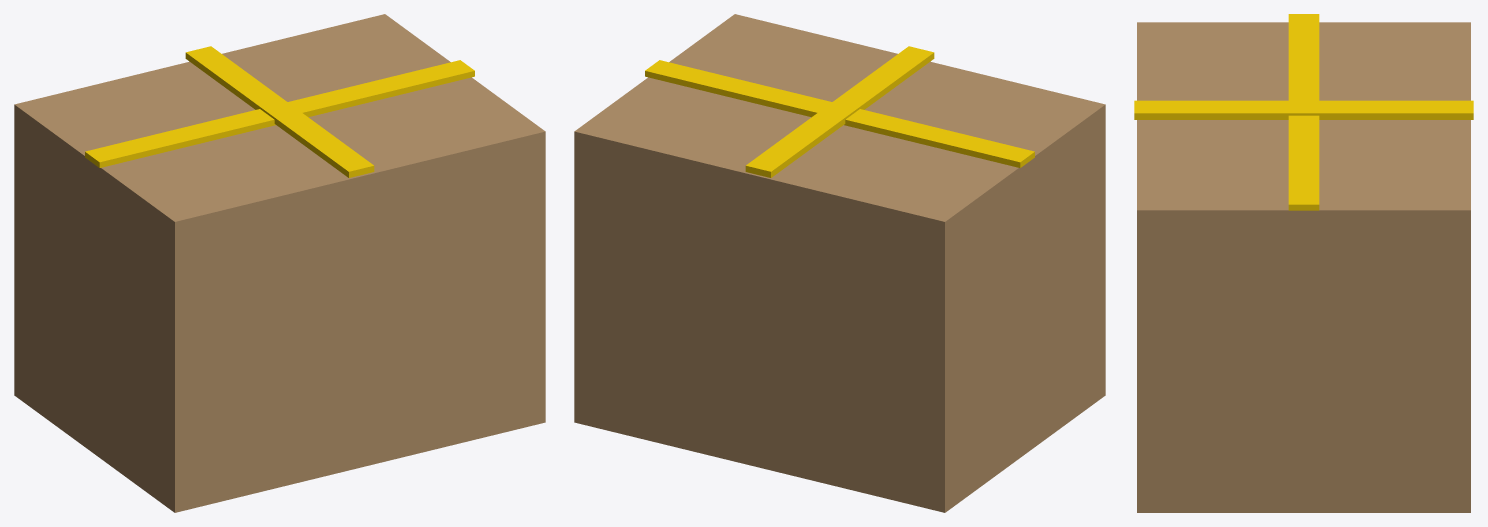
3 views of the same model, side by side, from view 1: azimuth 30°, elevation 25°; view 2: azimuth 150°, elevation 25°; view 3: azimuth 270°, elevation 25° (orthographic). The views are drawn at different scales.
Visible parts, largest first — view 1: cardboard_body, tape_long, tape_cross; view 2: cardboard_body, tape_long, tape_cross; view 3: cardboard_body, tape_cross, tape_long.
Boxes of the visible parts, left/top/right/bottom form: cardboard_body: left=14, top=14, right=545, bottom=512; tape_long: left=85, top=60, right=474, bottom=167; tape_cross: left=185, top=46, right=374, bottom=177; cardboard_body: left=574, top=14, right=1105, bottom=512; tape_long: left=645, top=60, right=1034, bottom=167; tape_cross: left=745, top=46, right=934, bottom=177; cardboard_body: left=1137, top=22, right=1470, bottom=512; tape_cross: left=1134, top=100, right=1473, bottom=119; tape_long: left=1288, top=14, right=1319, bottom=210.
Size of the model in its own units: 0.81 by 0.6185 by 0.61.
